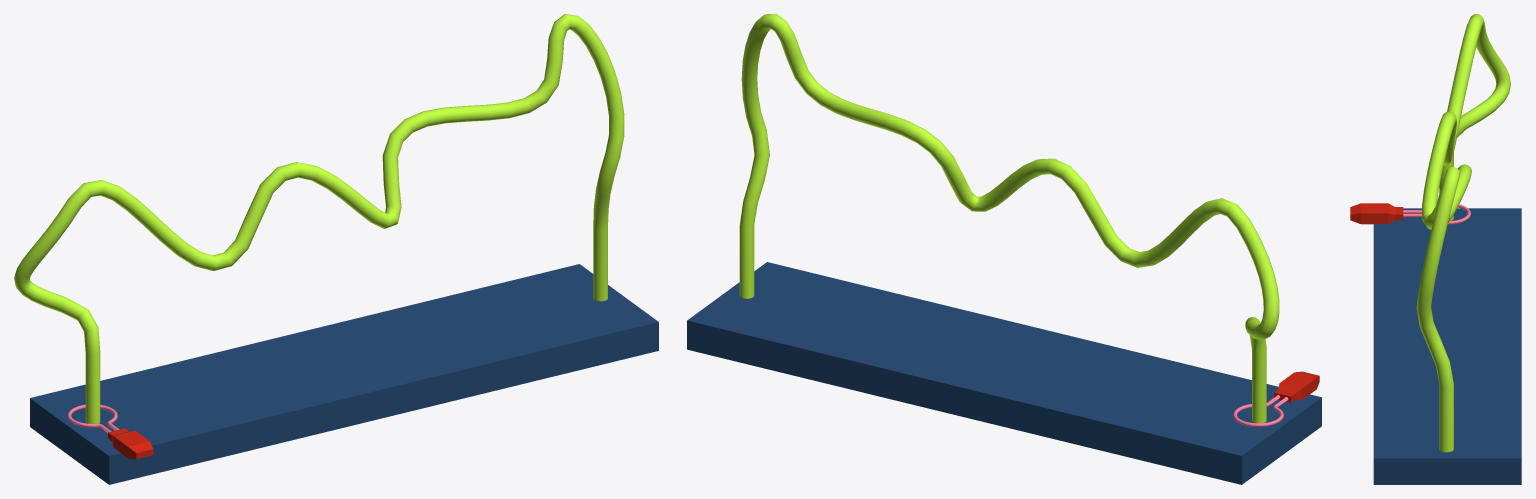
File: loopGame.glb
The picture shows the model from 3 angles, left to right: view 1: azimuth 30°, elevation 25°; view 2: azimuth 150°, elevation 25°; view 3: azimuth 270°, elevation 25°; orthographic projection. The views are drawn at different scales.
Visible parts, largest first — view 1: Base, Loop, Ring; view 2: Base, Loop, Ring; view 3: Base, Loop, Ring.
Boxes of the visible parts, left/top/right/bottom form: Base: left=30, top=264, right=658, bottom=484; Loop: left=14, top=14, right=624, bottom=423; Ring: left=67, top=404, right=153, bottom=459; Base: left=687, top=262, right=1321, bottom=484; Loop: left=739, top=14, right=1279, bottom=423; Ring: left=1233, top=371, right=1319, bottom=427; Base: left=1373, top=208, right=1521, bottom=484; Loop: left=1416, top=14, right=1510, bottom=452; Ring: left=1350, top=203, right=1470, bottom=224.
Bounding box in the file's own units: 8.36 × 4.41 × 2.32.
1 material, 1 textured.
